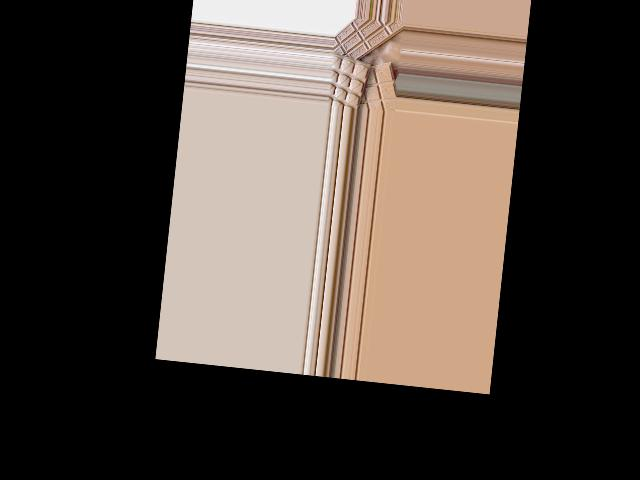chocolate: (351, 59, 396, 112)
